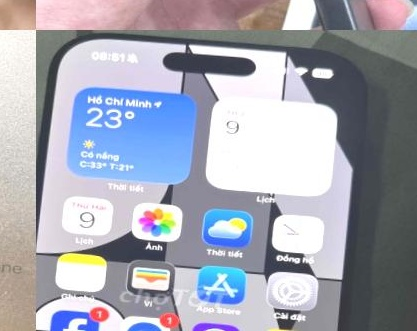scratch: (0, 181, 6, 238), (0, 283, 12, 309)
